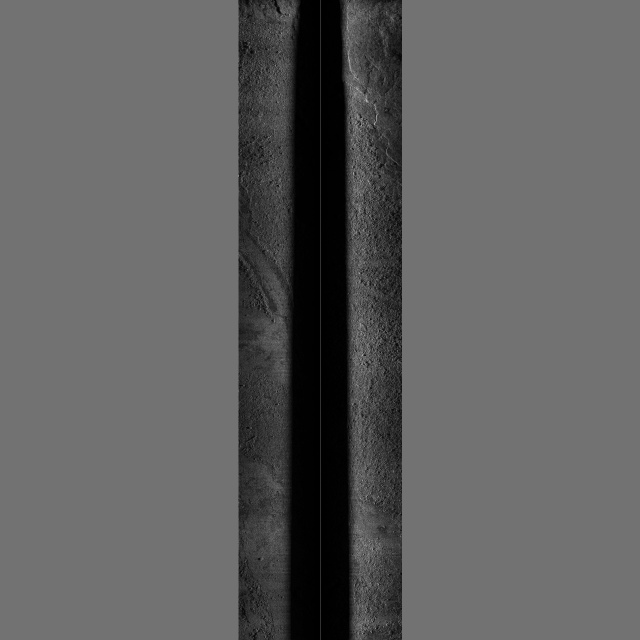Shipwreck: (247, 436, 257, 442)
